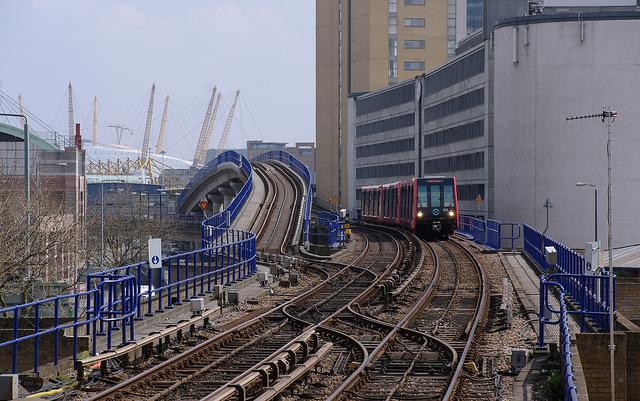Train: (362, 175, 460, 243)
